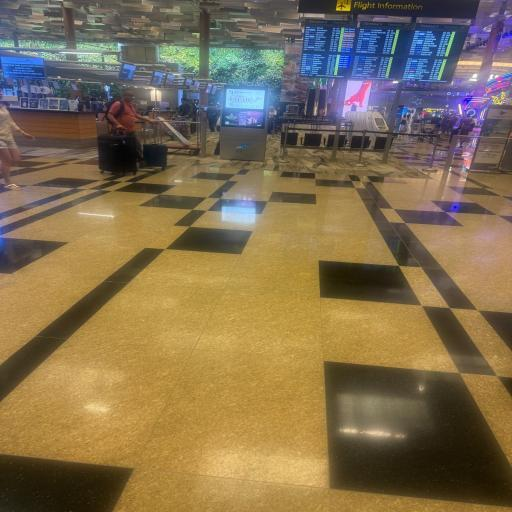person_right: (0, 99, 35, 190)
person_with_luggage_right: (97, 88, 168, 176)
